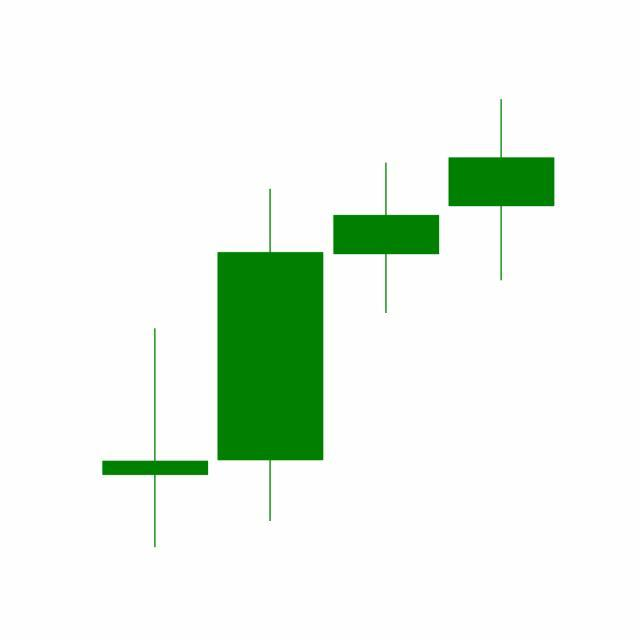Advance Block: (211, 99, 555, 526)
